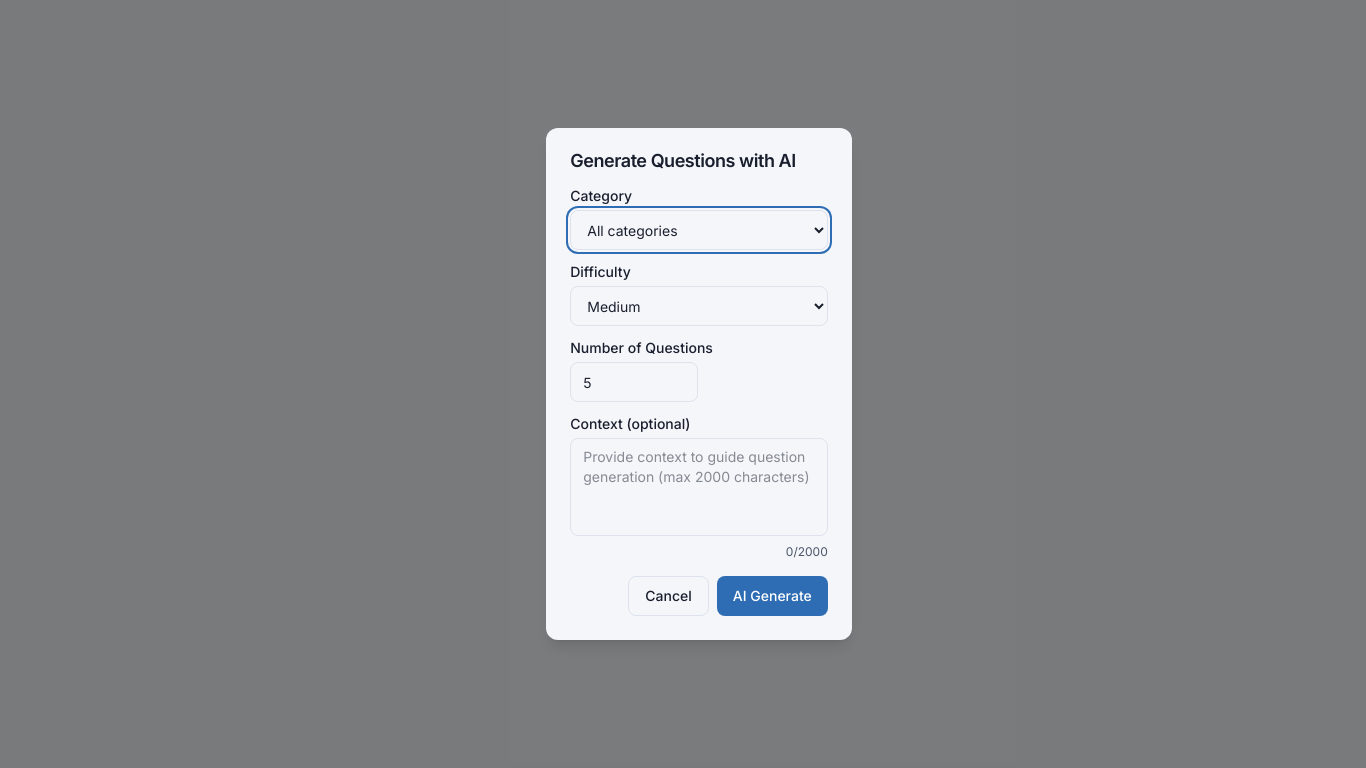
Test: AIGenerateDialog › open and close › discards generated drafts when Cancel is clicked, before closing
This screenshot has width=1366, height=768.
Select "Biology" in the dropdown below "Category". click: {"x": 699, "y": 230}
box: [570,210,828,250]
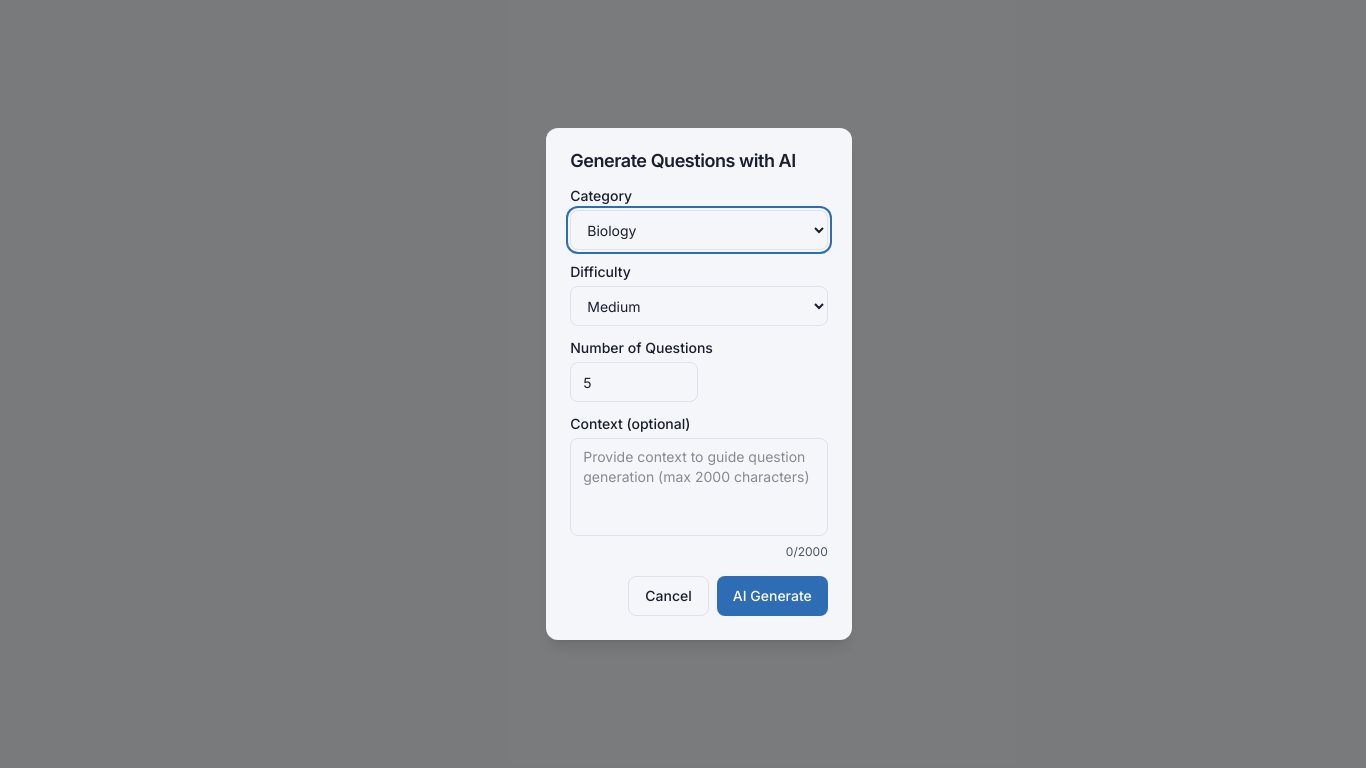
Click the button "AI Generate". click: {"x": 772, "y": 596}
box: [717,576,828,616]
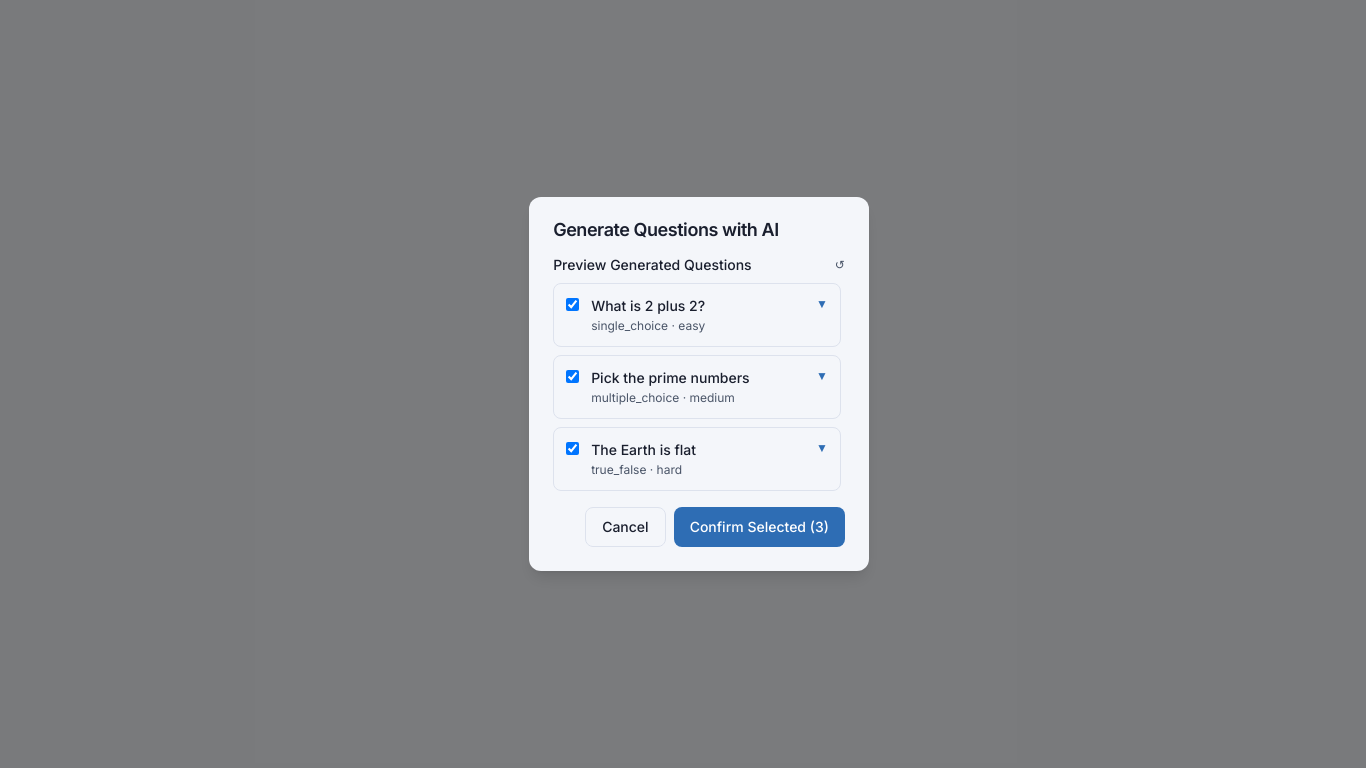
Expected: the text "Preview Generated Questions" is shown, [553,255,752,275]
Click the button "Cancel". click: {"x": 625, "y": 527}
box: [585,507,666,547]
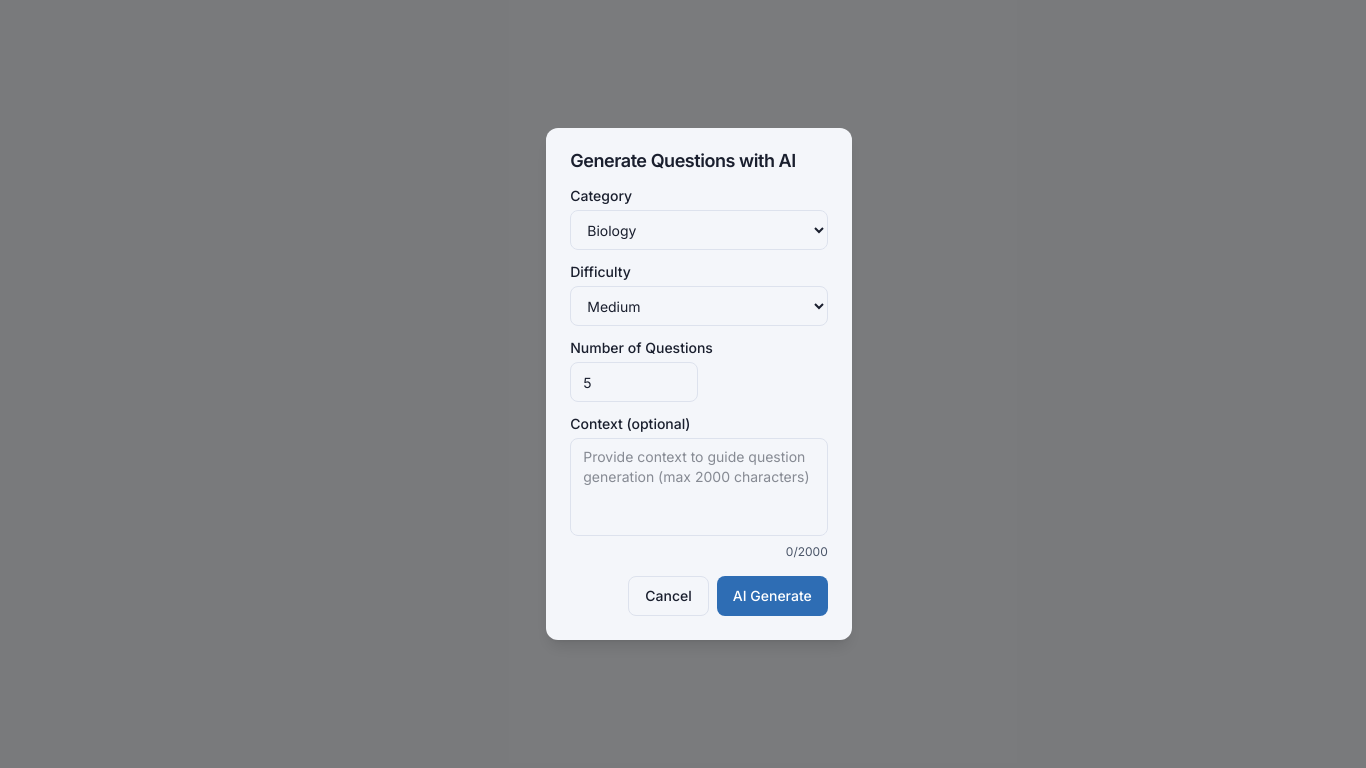
Expected: the text "Preview Generated Questions" is gone
Expected: the dropdown below "Category" is shown, [570,210,828,250]
